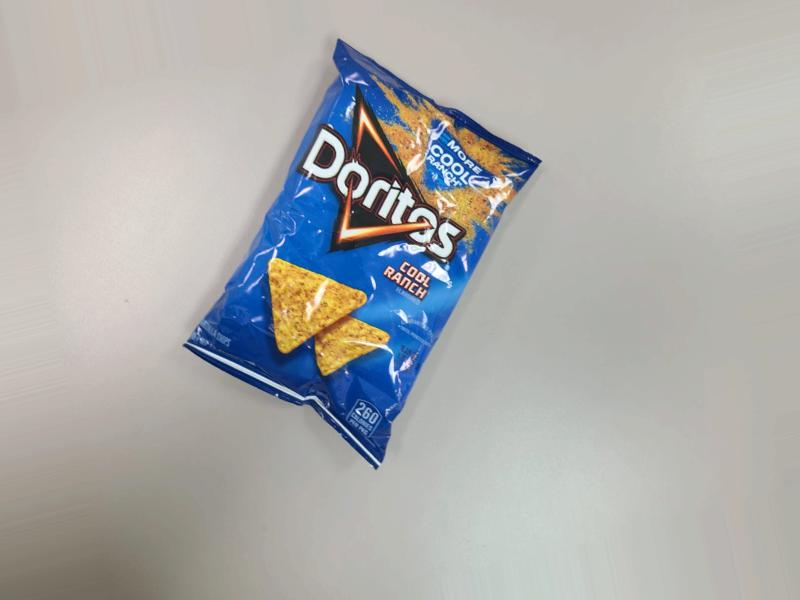doritos: (191, 23, 538, 493)
